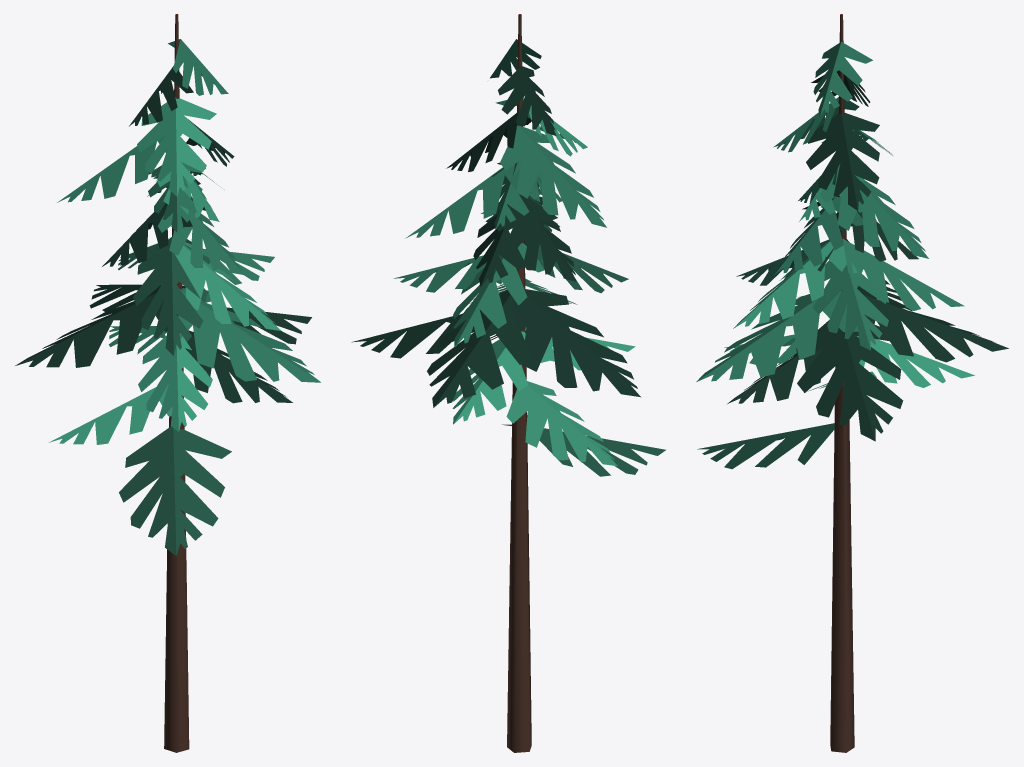
The model's file is fir.dae.
3 views of the same model, side by side, from view 1: azimuth 30°, elevation 25°; view 2: azimuth 150°, elevation 25°; view 3: azimuth 270°, elevation 25° (orthographic).
Visible parts, largest first — view 1: branch (×19), SketchUp; view 2: branch (×18), SketchUp; view 3: branch (×16), SketchUp.
Boxes of the visible parts, x1=… form: branch (×19): x1=15, y1=39, x2=320, y2=555; SketchUp: x1=164, y1=15, x2=189, y2=752; branch (×18): x1=351, y1=39, x2=665, y2=476; SketchUp: x1=507, y1=14, x2=531, y2=752; branch (×16): x1=696, y1=41, x2=1008, y2=469; SketchUp: x1=830, y1=15, x2=854, y2=752.
Bounding box in the file's own units: 462 × 427 × 1099.
